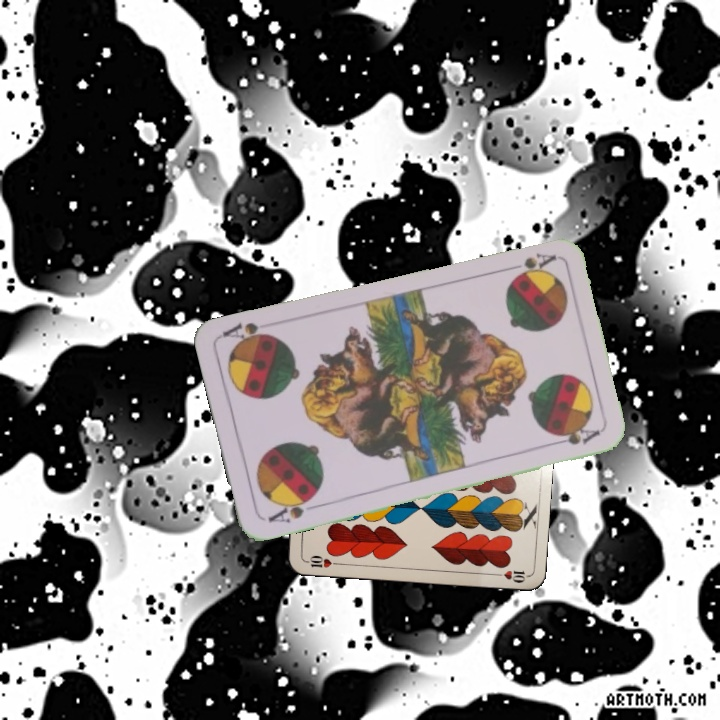H10: (301, 551, 341, 570)
SA: (263, 492, 318, 526), (500, 248, 558, 280)
